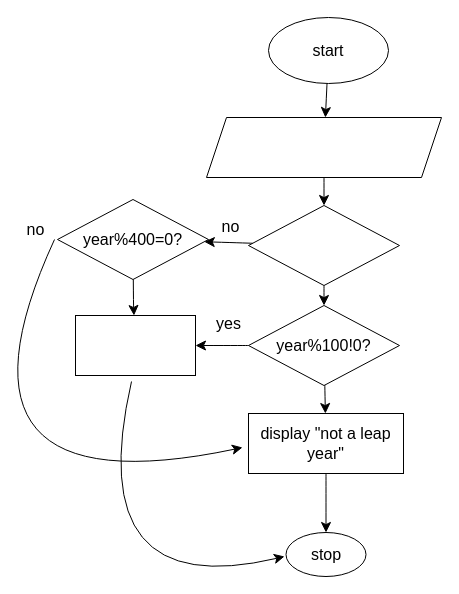
This 459x594 diagram has some shape labels left out. The shapes that lost their labels are listed below. From the top down, each one's centre as x and y in pixels, then its label:
point 324,147: read the year to be checked
point 324,245: year%4=0?
point 135,345: display "leap year"
